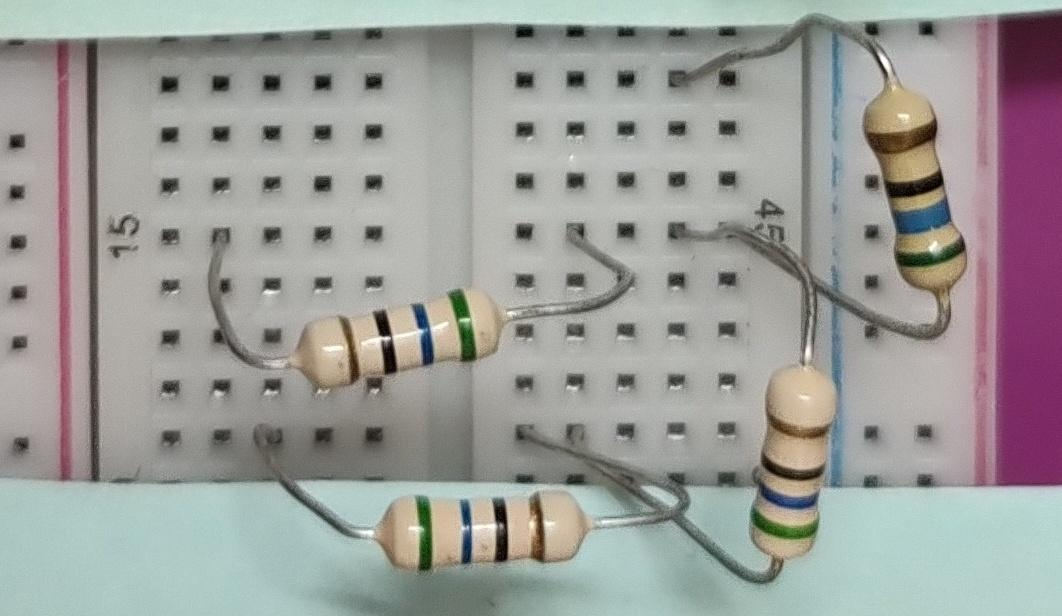resistor: (849, 75, 979, 303), (268, 288, 536, 392), (359, 475, 611, 577), (744, 350, 847, 576)
